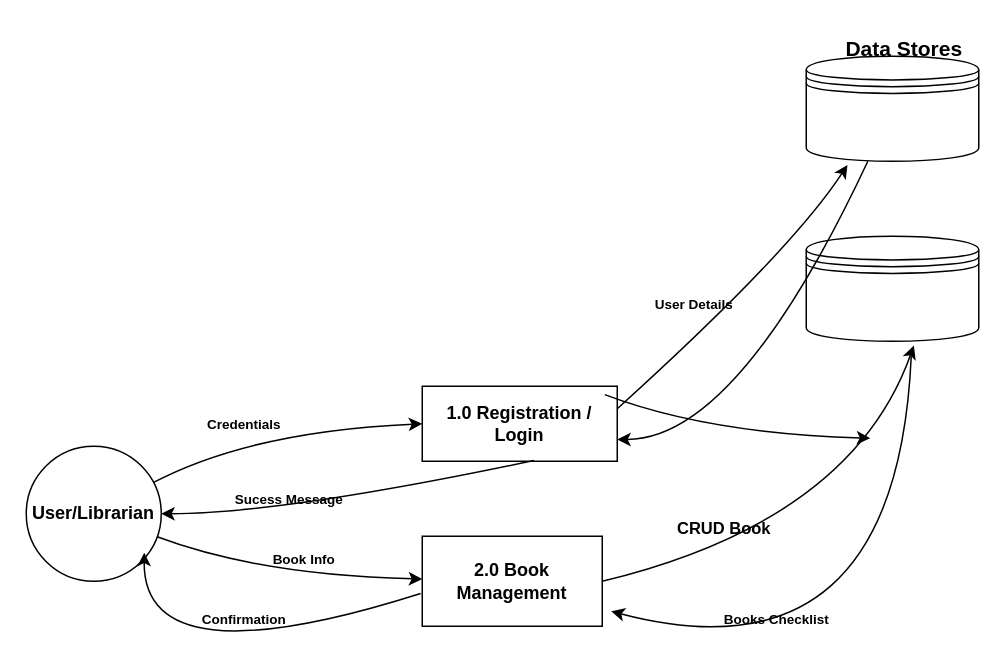
This 1005x666 diagram has some shape labels left out. Each missing label, with the centre of its shape:
"Book Database" goes at (892,288).
"User Database" goes at (892,108).
